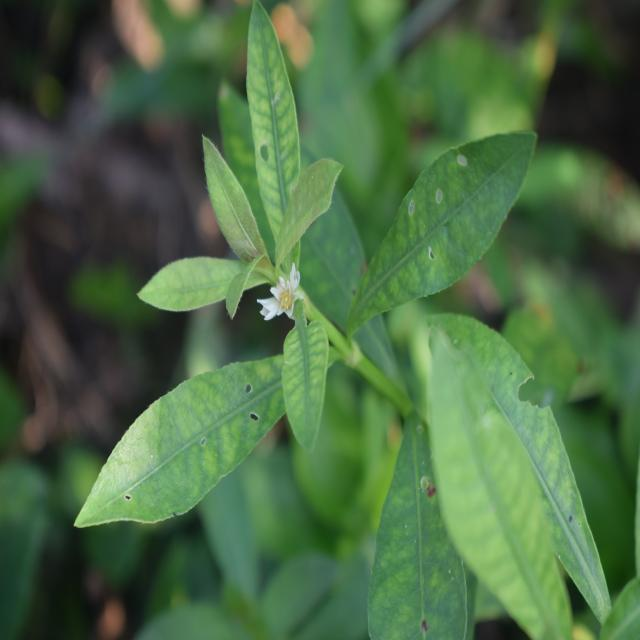Alligatorweed: (101, 45, 526, 567)
